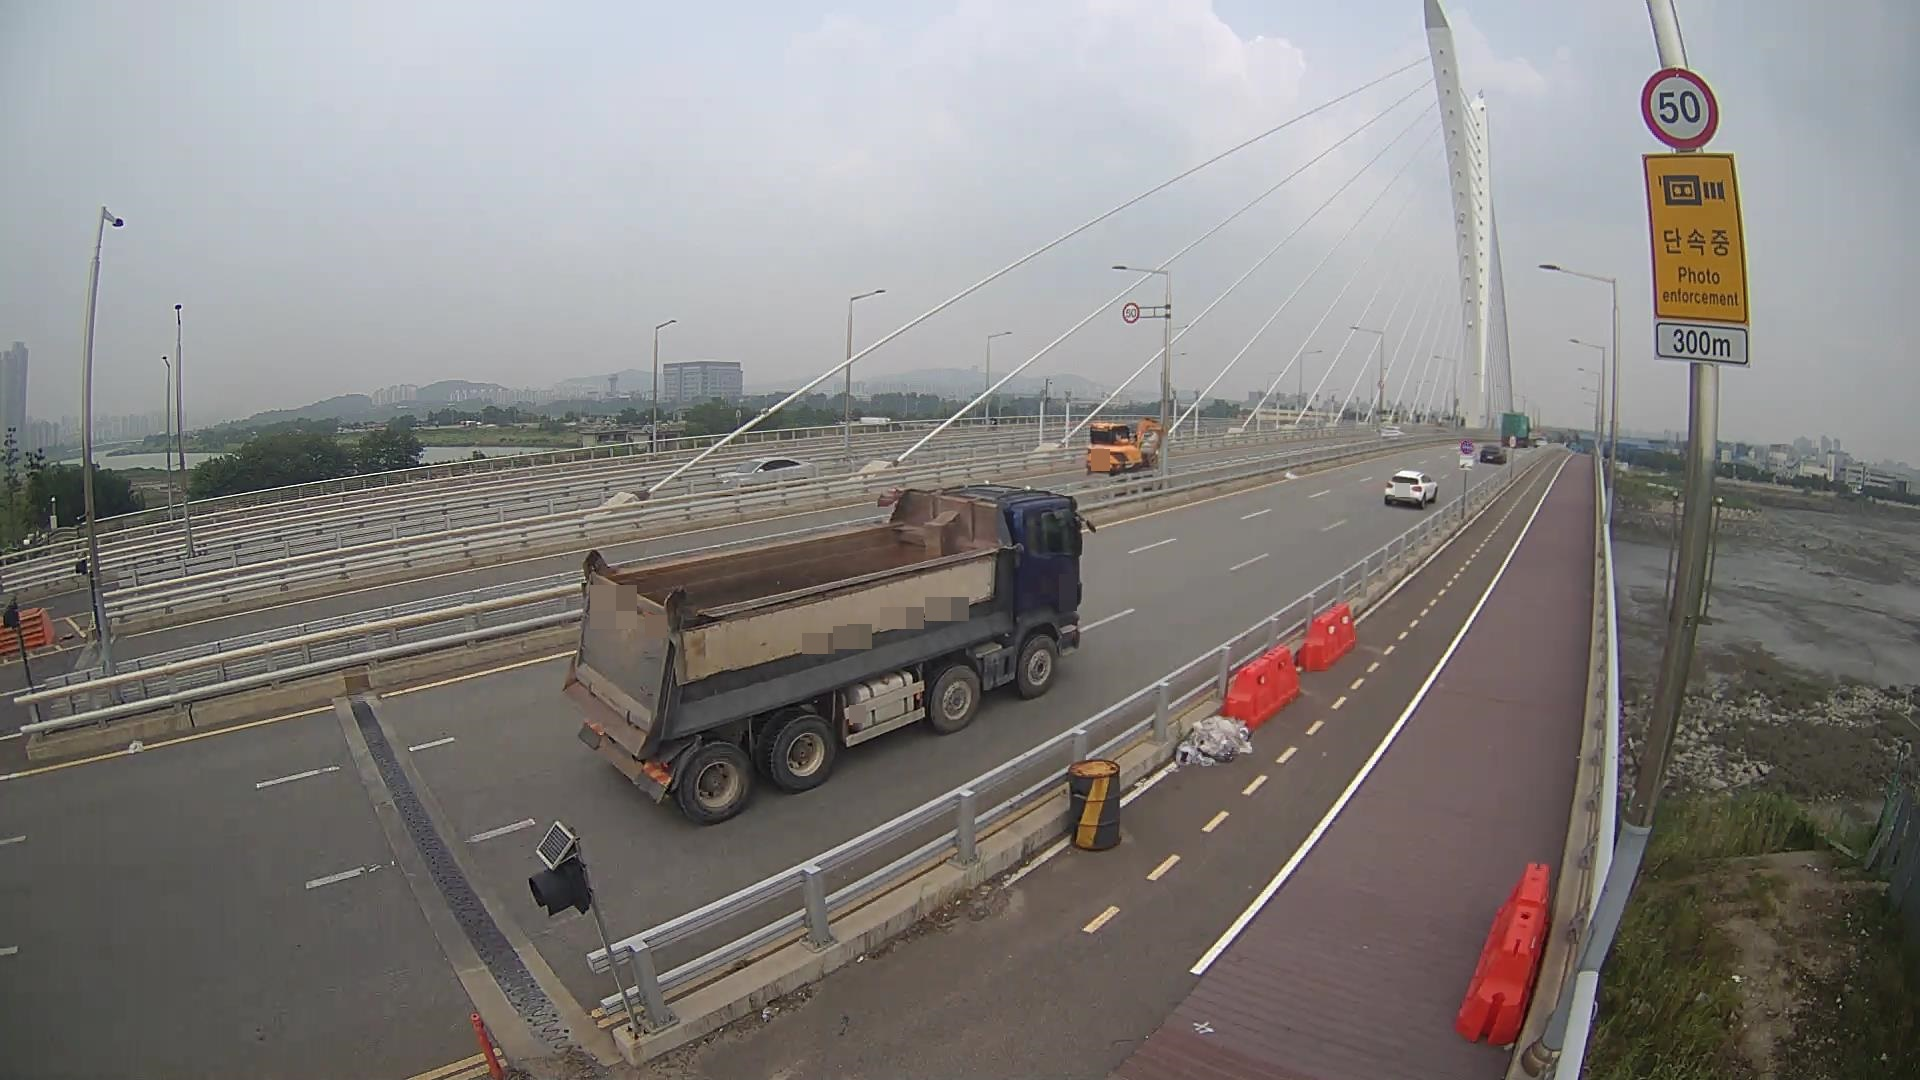정상차량: (563, 485, 1096, 824)
